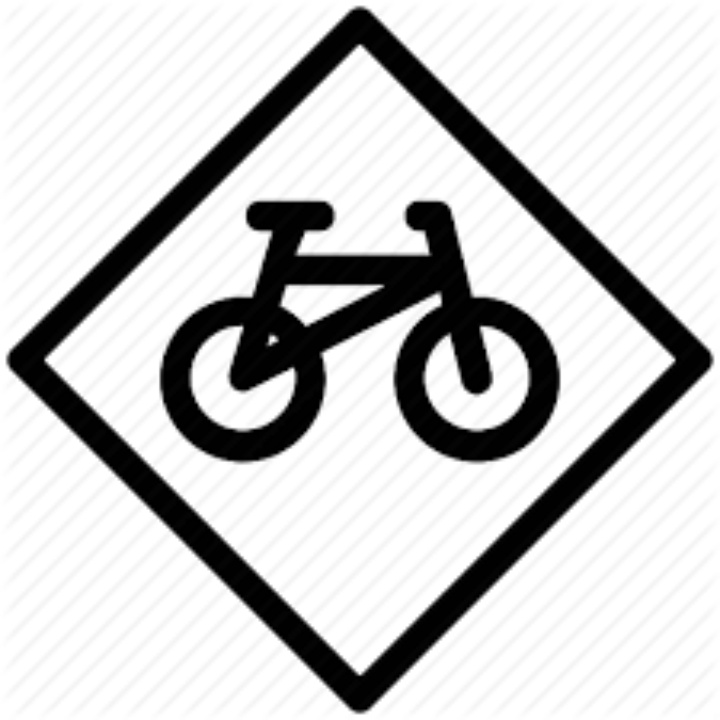bicycle: (158, 194, 560, 465)
